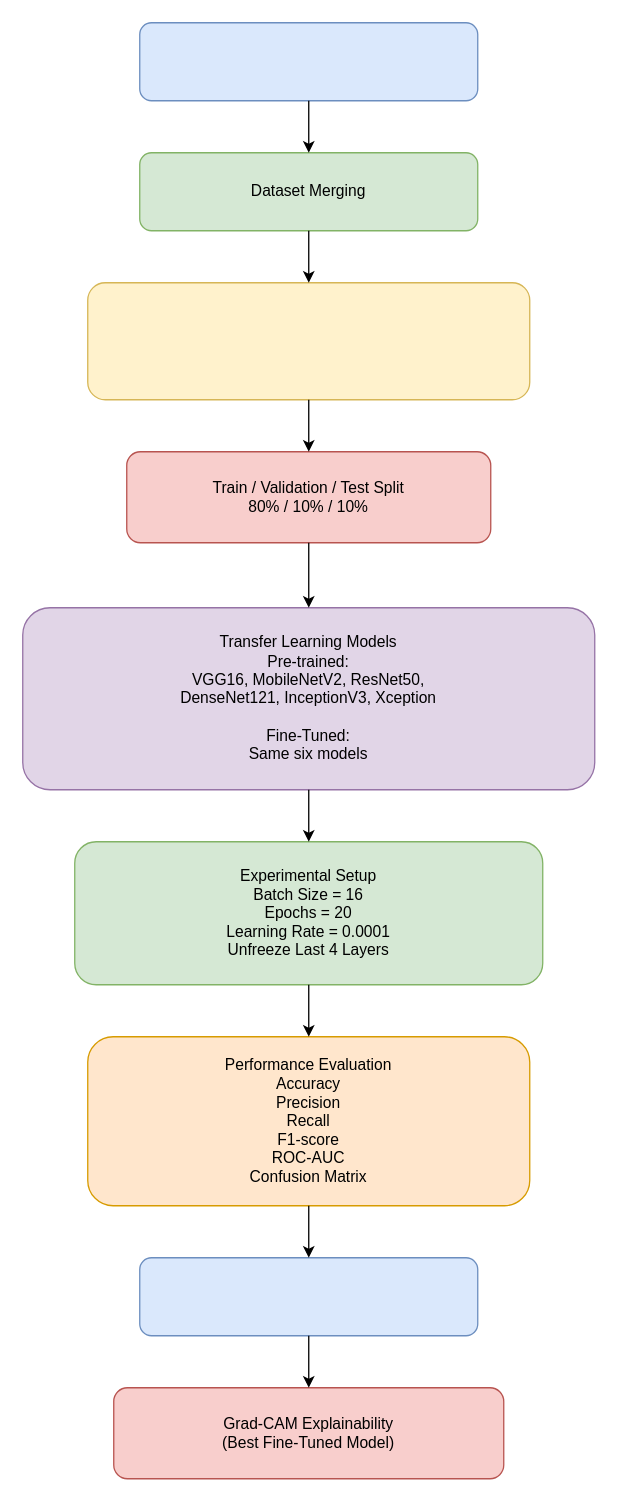
Some shapes in this 618 by 1502 pixel diagram are drawn without their labels. Here are the shapes that lost their labels. From the top down, the box of each, then its label:
(138, 21, 478, 101): Dataset Collection (Dataset 1 + Dataset 2)
(86, 281, 530, 400): Data Preprocessing • Resize (224×224) • Normalize • Data Augmentation
(138, 1256, 478, 1336): Best Model Selection
